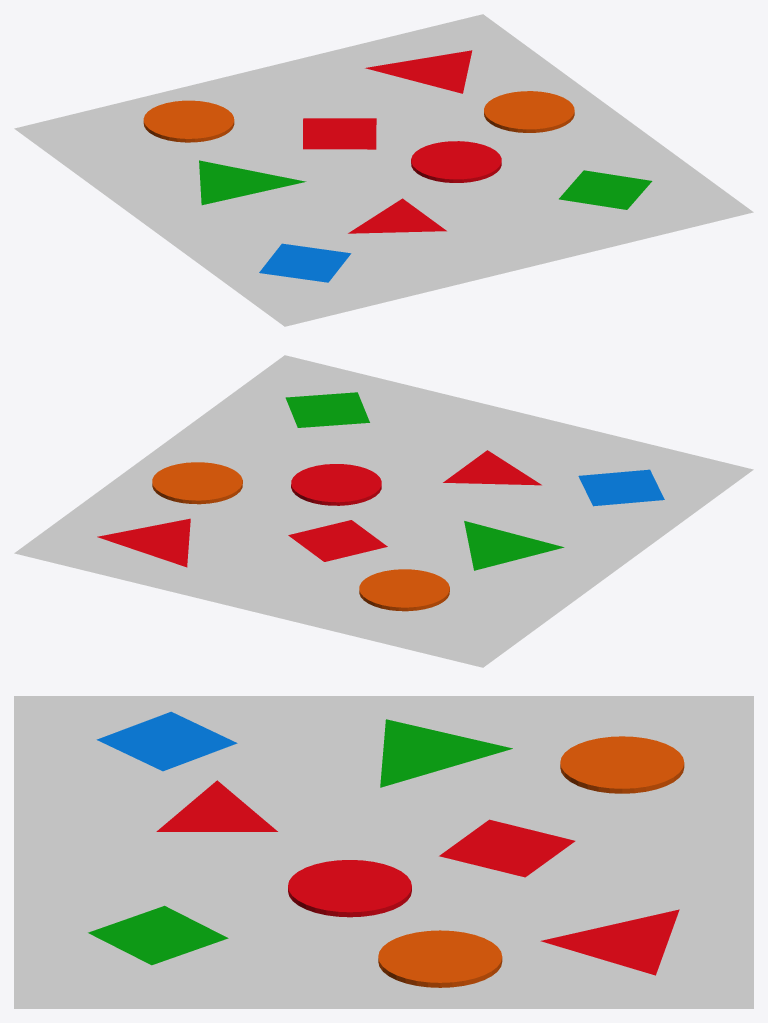
File: aerothon_r2_shapes.dae
3 views of the same model, one above another, from view 1: azimuth 30°, elevation 25°; view 2: azimuth 150°, elevation 25°; view 3: azimuth 270°, elevation 25° (orthographic). The views are drawn at different scales.
Visible parts, largest first — view 1: Plane, Cylinder, Cylinder.002, Cylinder.001, Plane.003, Plane.005, Plane.002, Plane.006, Plane.004, Plane.001; view 2: Plane, Cylinder, Cylinder.002, Cylinder.001, Plane.003, Plane.002, Plane.006, Plane.004, Plane.005, Plane.001; view 3: Plane, Cylinder, Cylinder.002, Cylinder.001, Plane.003, Plane.002, Plane.006, Plane.004, Plane.005, Plane.001.
Part boxes in pixels (x1,y1,x2,y2): Plane: (14,14,753,326); Cylinder: (143,100,234,142); Cylinder.002: (484,91,574,132); Cylinder.001: (411,141,501,182); Plane.003: (199,160,306,205); Plane.005: (303,118,376,149); Plane.002: (365,50,472,93); Plane.006: (259,243,351,282); Plane.004: (559,170,652,209); Plane.001: (348,198,446,233); Plane: (14,355,753,667); Cylinder: (359,569,449,611); Cylinder.002: (152,462,242,504); Cylinder.001: (291,464,381,505); Plane.003: (464,521,564,570); Plane.002: (97,518,190,567); Plane.006: (578,469,664,506); Plane.004: (285,392,369,427); Plane.005: (288,520,387,561); Plane.001: (443,450,541,485); Plane: (14,696,753,1008); Cylinder: (560,736,684,793); Cylinder.002: (378,930,502,987); Cylinder.001: (288,860,411,917); Plane.003: (380,719,512,787); Plane.002: (540,909,679,975); Plane.006: (96,711,237,771); Plane.004: (88,905,228,965); Plane.005: (439,819,575,877); Plane.001: (156,780,277,831).
Bounding box in the file's own units: 8 × 8 × 0.2152.
